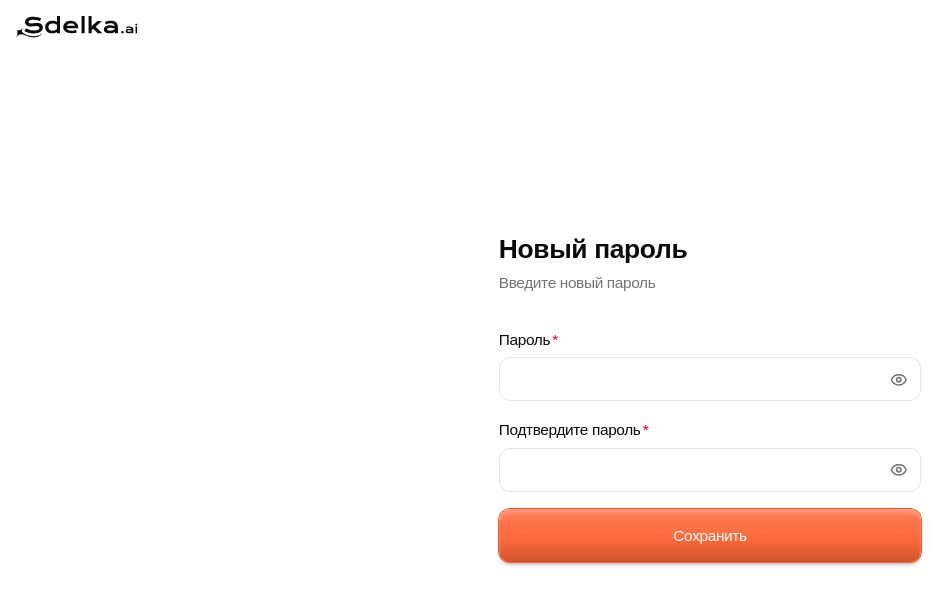
Test case: ResetPasswordPage › backend ValidationError on new_password surfaces a translated field error (password_too_common)
The image size is (941, 595).
In the password field labelled "Пароль": x=710, y=379 [499,357,921,401], type "newSecure1"
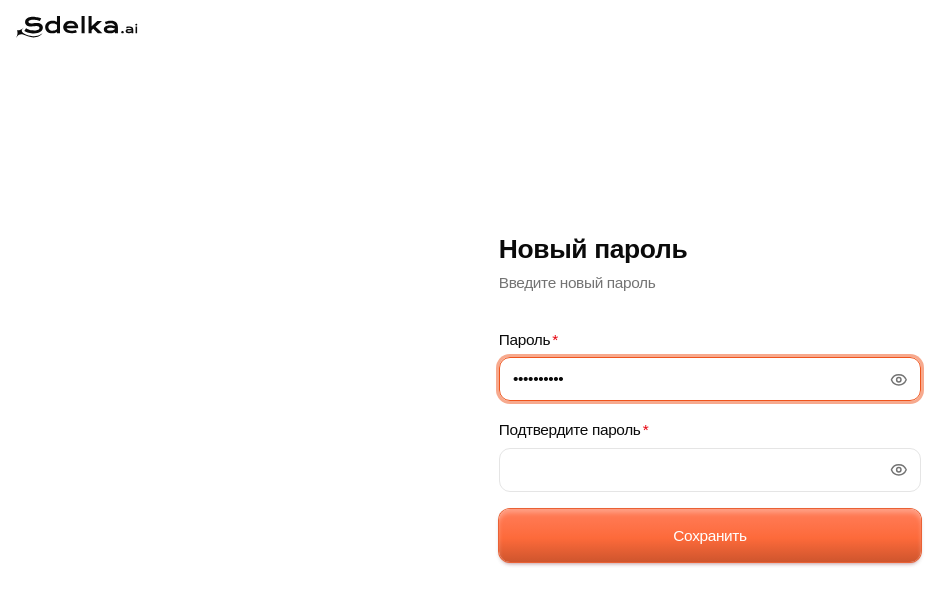
In the password field labelled "Подтвердите пароль": x=710, y=470 [499,448,921,492], type "newSecure1"
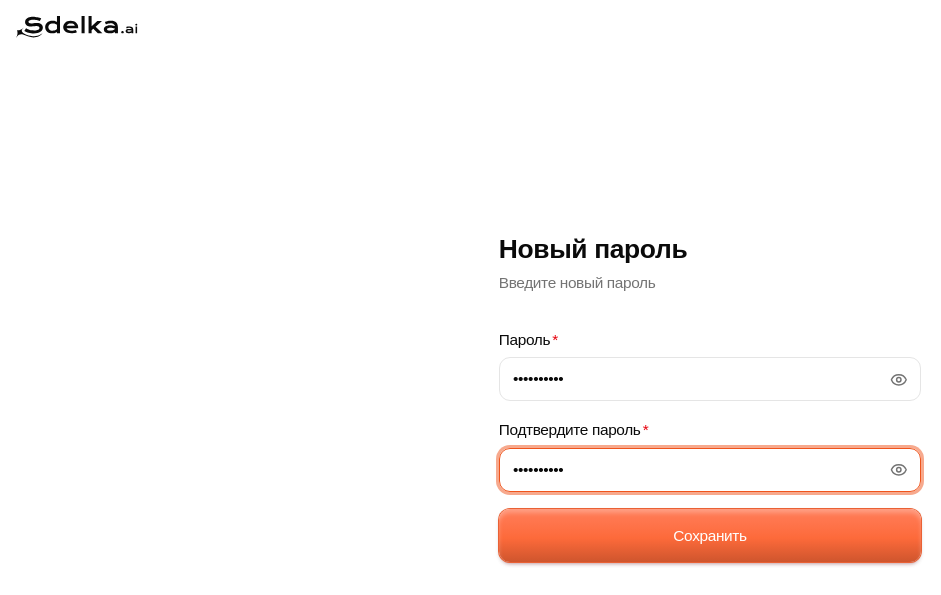
Click the button "Сохранить": x=710, y=536 [499,509,921,562]
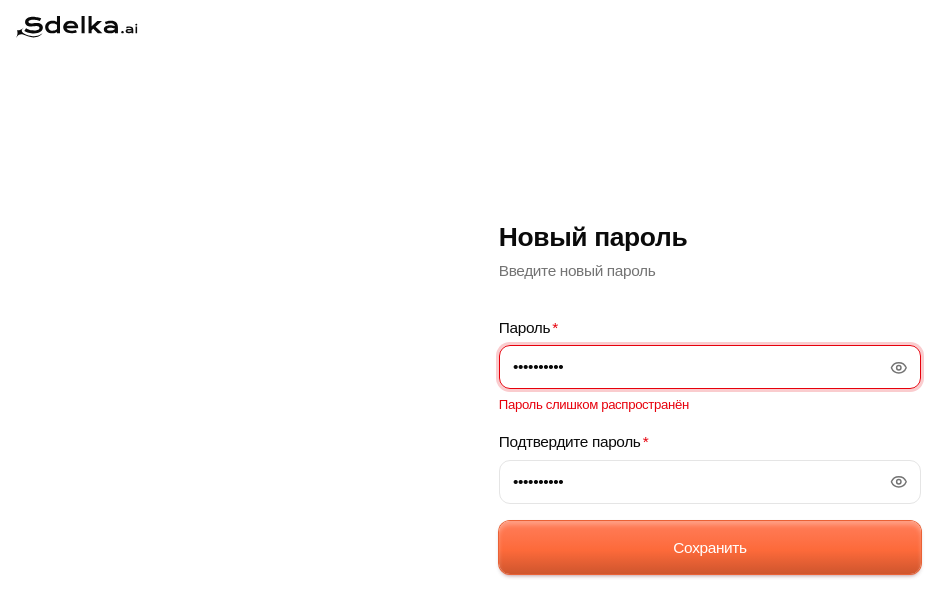
Result: the text "Пароль слишком распространён" is shown at [499,397,689,412]
